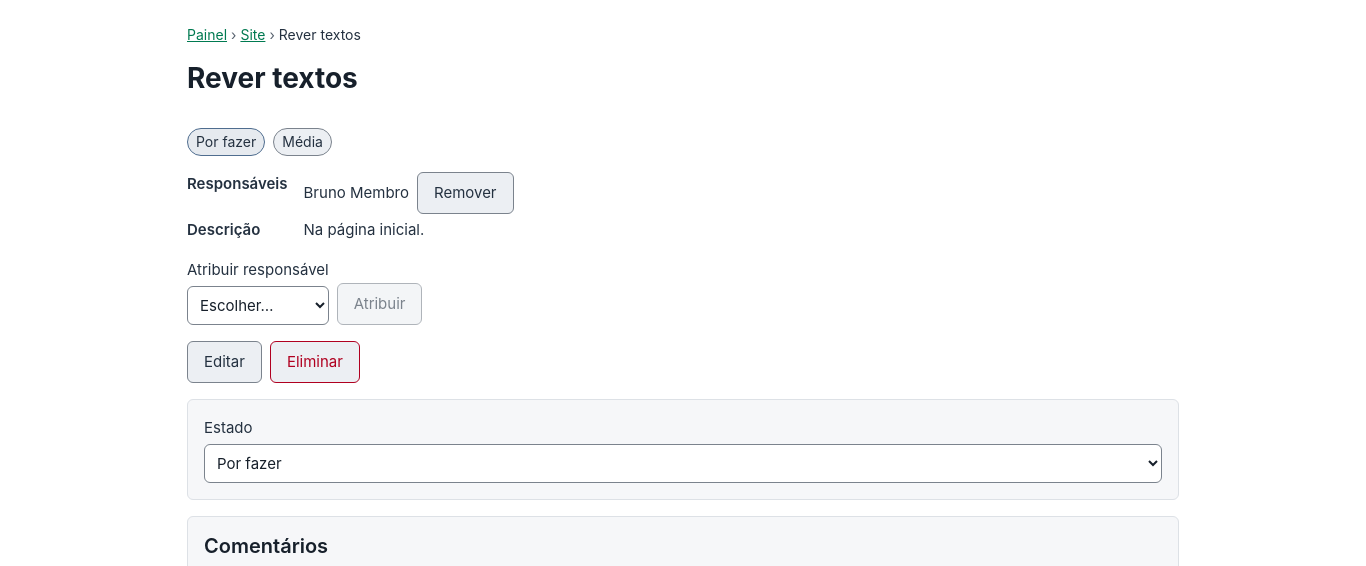
Test: TaskDetailView (US19, US06, US07, US22) › se a edição falhar, o formulário mantém o que foi escrito e mostra o erro da API
Click the button "Editar".
click(224, 362)  # box [187, 341, 262, 383]
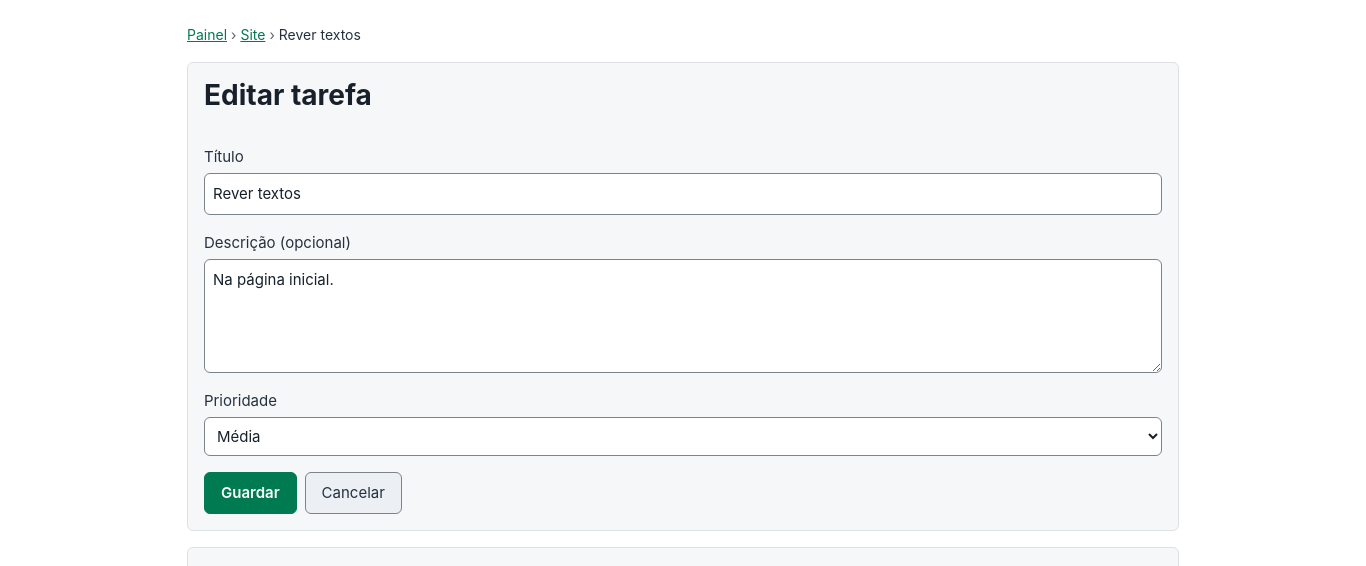
Replace the text in the field labelled "Título" with "Novo título" at (683, 194), box [204, 173, 1162, 215]
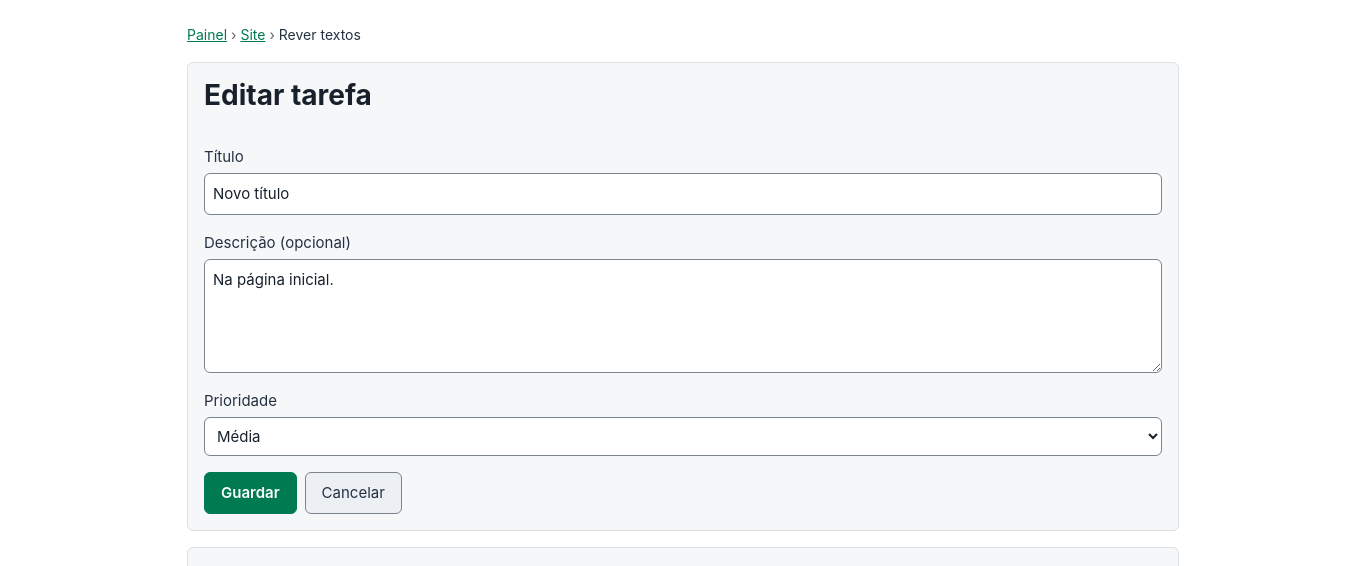
Submit the form "Título Descrição (opcional) Prioridade Guardar Cancelar", box [204, 145, 1162, 514]
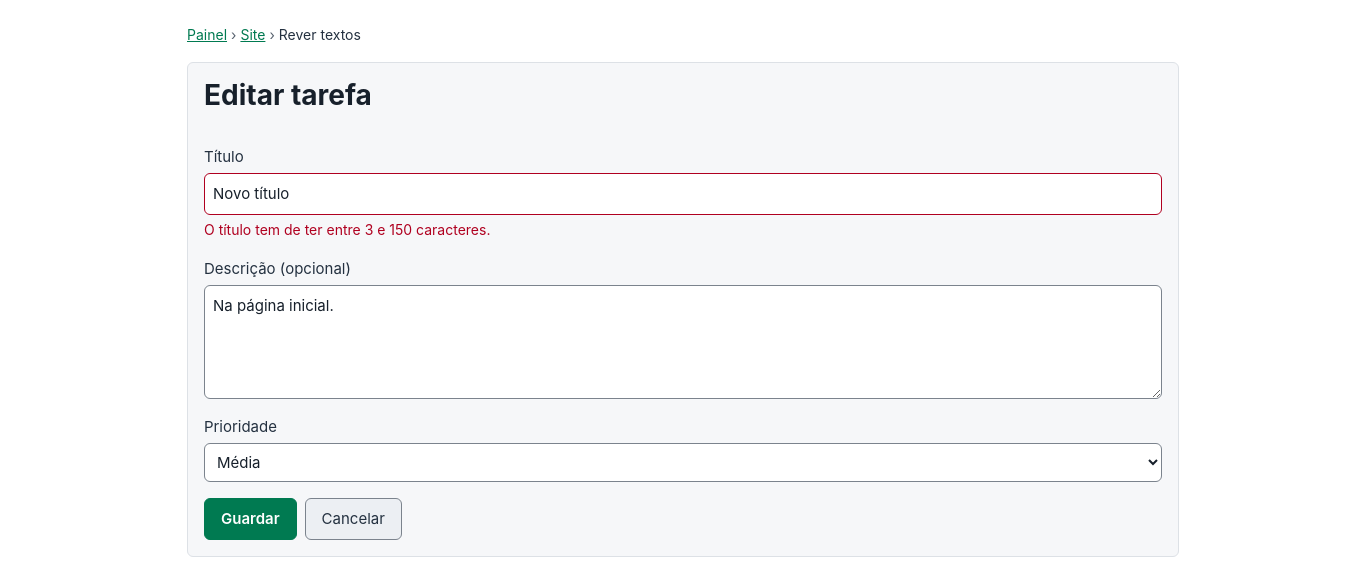
Now the text with class "field-error" reads "O título tem de ter entre 3 e 150 caracteres.", box [204, 221, 490, 238]
